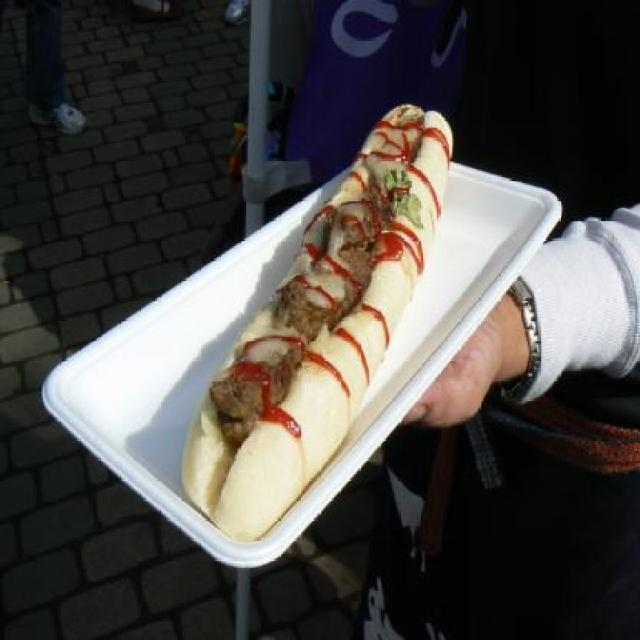Hot dog: (188, 97, 470, 548)
